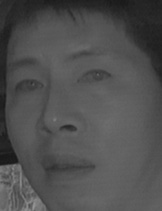eye: (76, 67, 114, 87), (13, 75, 46, 97)
mouth: (38, 151, 95, 185)
